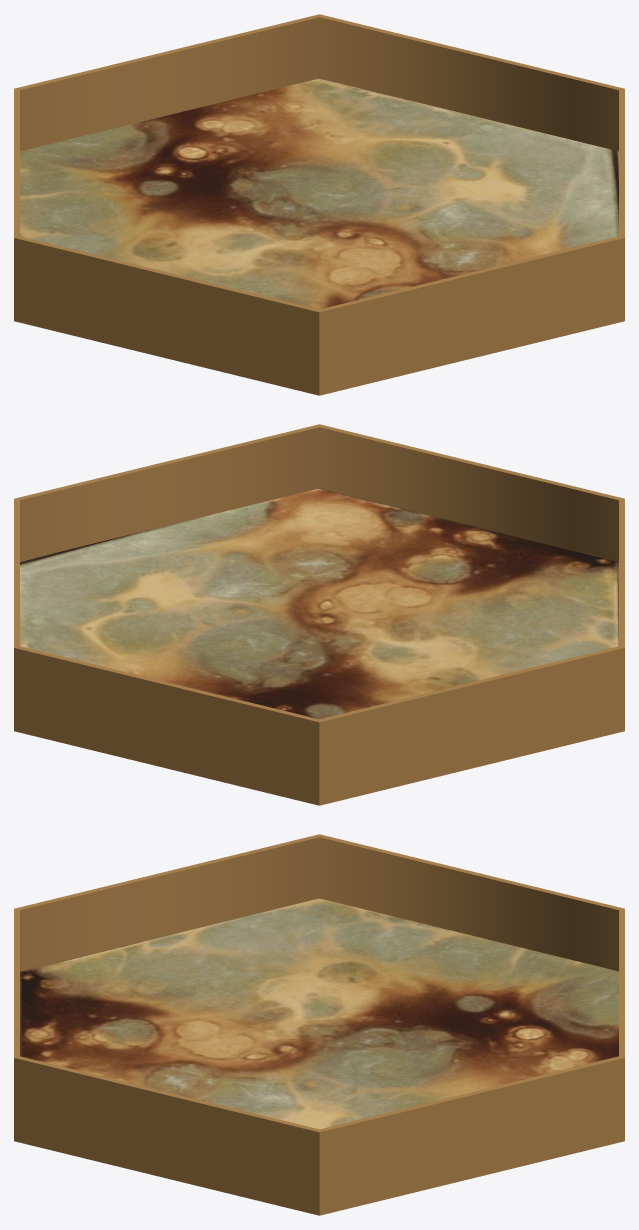
The model's file is Moss_OrganicGlassValetTray.glb.
3 views of the same model, one above another, from view 1: azimuth 30°, elevation 25°; view 2: azimuth 150°, elevation 25°; view 3: azimuth 270°, elevation 25° (orthographic).
Parts seen in each view (by area): view 1: model 2; view 2: model 2; view 3: model 2.
Boxes of the visible parts, x1,y1,x2,y2 form: model 2: (14, 14, 624, 395); model 2: (14, 424, 624, 805); model 2: (14, 834, 624, 1215).
Bounding box in the file's own units: 0.23 × 0.03 × 0.1992.
Materials: 2 (1 with a texture image).
